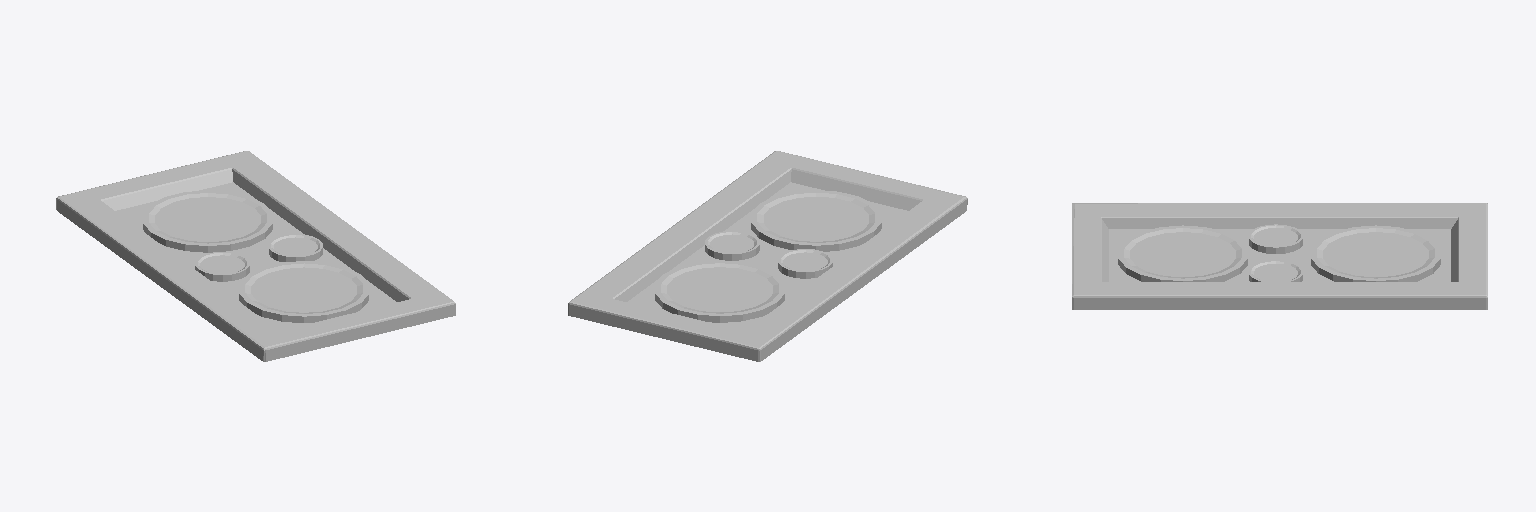
File: Recharge_PlaceHolder.obj
3 views of the same model, side by side, from view 1: azimuth 30°, elevation 25°; view 2: azimuth 150°, elevation 25°; view 3: azimuth 270°, elevation 25° (orthographic).
Parts seen in each view (by area): view 1: Box001; view 2: Box001; view 3: Box001.
Part boxes in pixels (left/top/right/bottom): Box001: left=56, top=151, right=455, bottom=361; Box001: left=568, top=151, right=967, bottom=361; Box001: left=1072, top=203, right=1487, bottom=309.
Size of the model in its own units: 80 by 5.39 by 150.